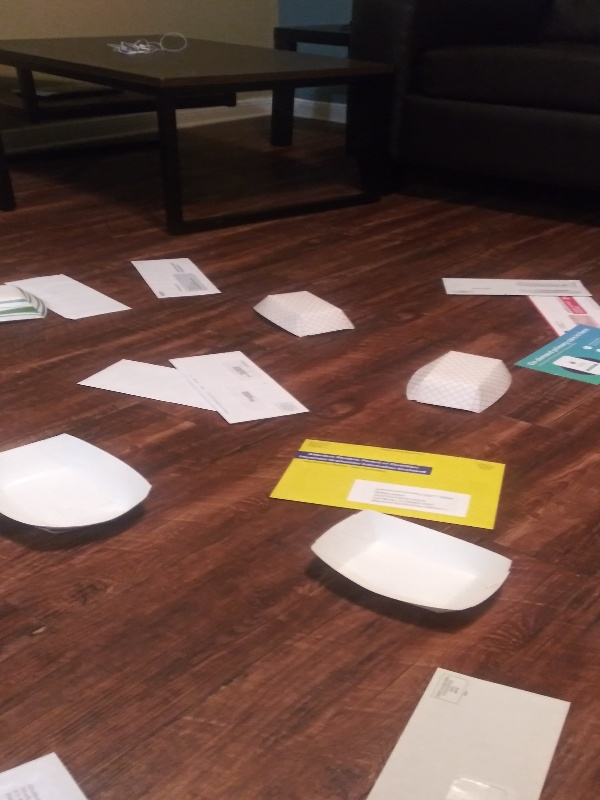plate: (306, 505, 519, 622), (1, 429, 160, 546), (400, 346, 514, 418), (248, 288, 362, 342), (1, 282, 49, 326)
